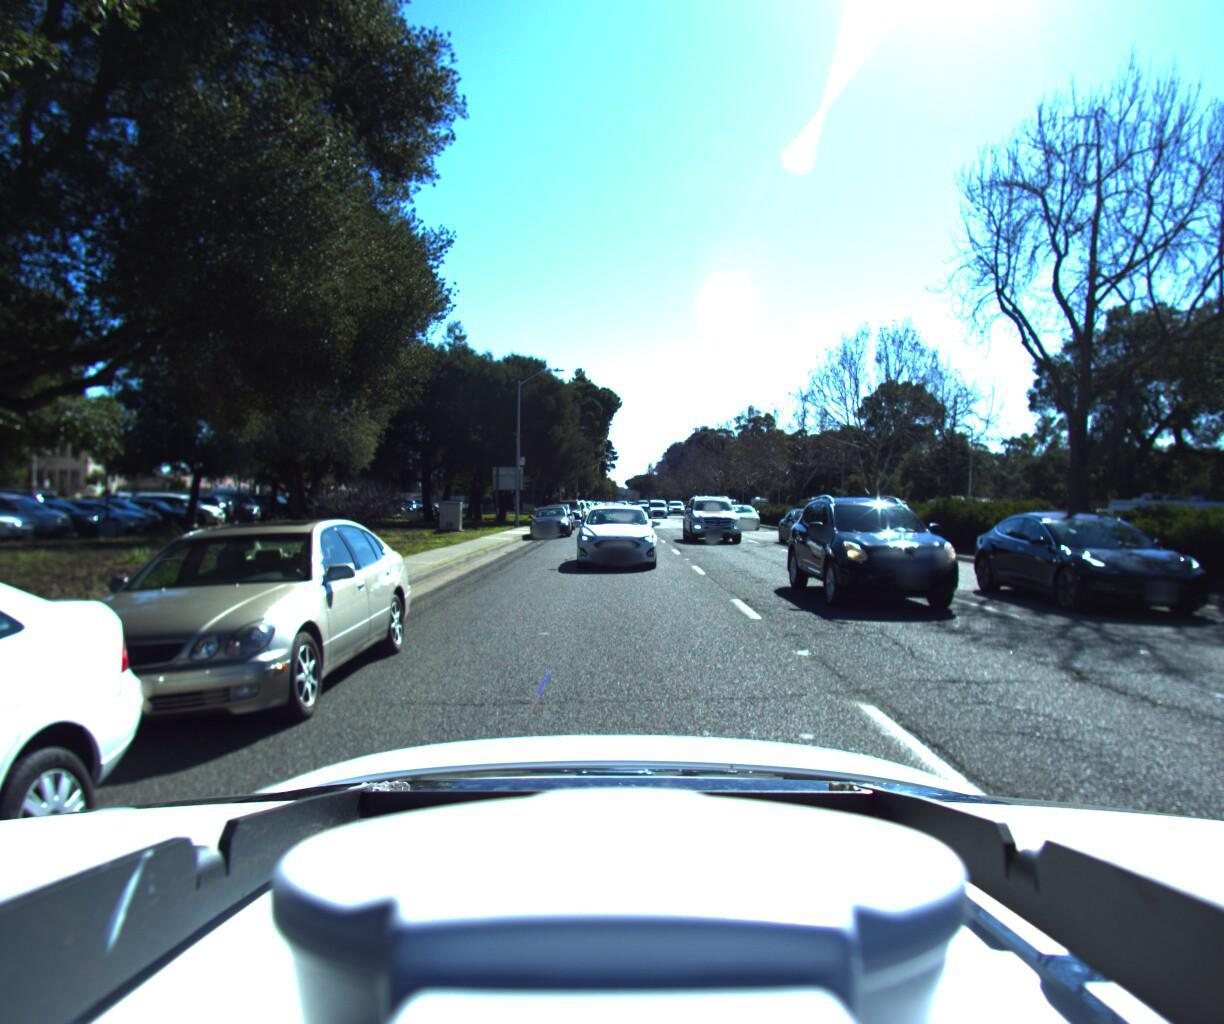car: (793, 490, 1017, 629), (986, 518, 1224, 633), (570, 498, 658, 570), (680, 492, 751, 548), (776, 509, 857, 551), (521, 503, 569, 539), (723, 503, 767, 532), (646, 499, 670, 520)
other_vehicle: (1097, 490, 1224, 562), (851, 494, 903, 529)
